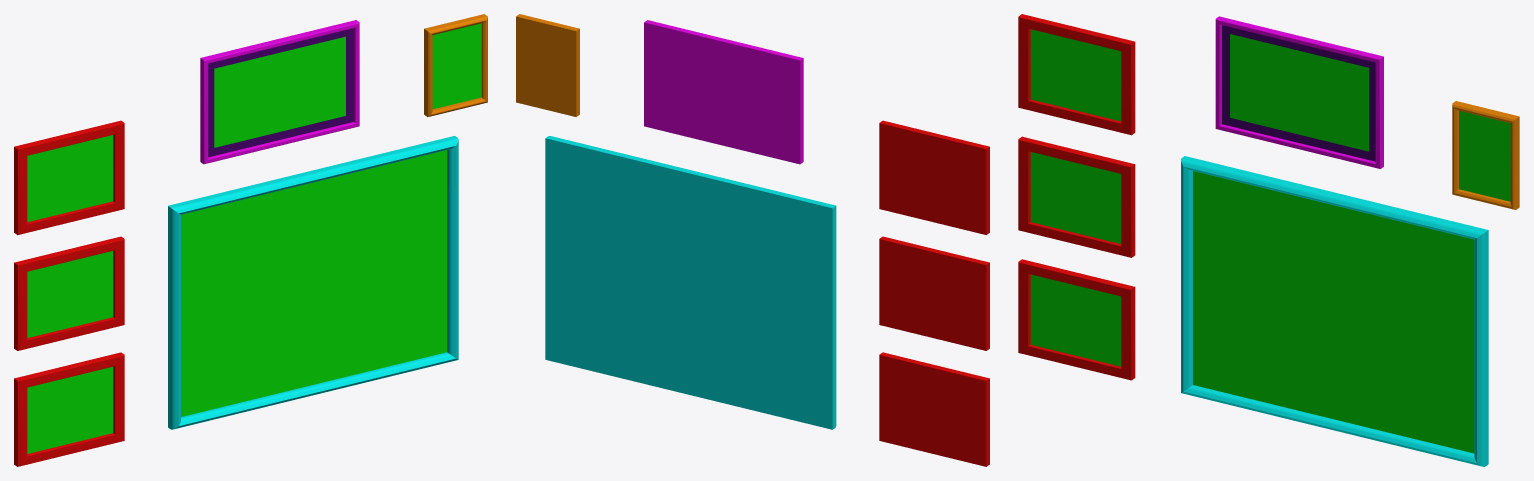
3 renders of one model, left to right at view 1: azimuth 30°, elevation 25°; view 2: azimuth 150°, elevation 25°; view 3: azimuth 330°, elevation 25°, orthographic. The views are drawn at different scales.
Visible parts, largest first — view 1: polySurface159; view 2: polySurface159; view 3: polySurface159.
Part boxes in pixels (bbox=[...]): polySurface159: bbox=[14, 14, 487, 466]; polySurface159: bbox=[516, 14, 989, 466]; polySurface159: bbox=[1018, 14, 1519, 466].
Size of the model in its own units: 278 by 204 by 6.27.
